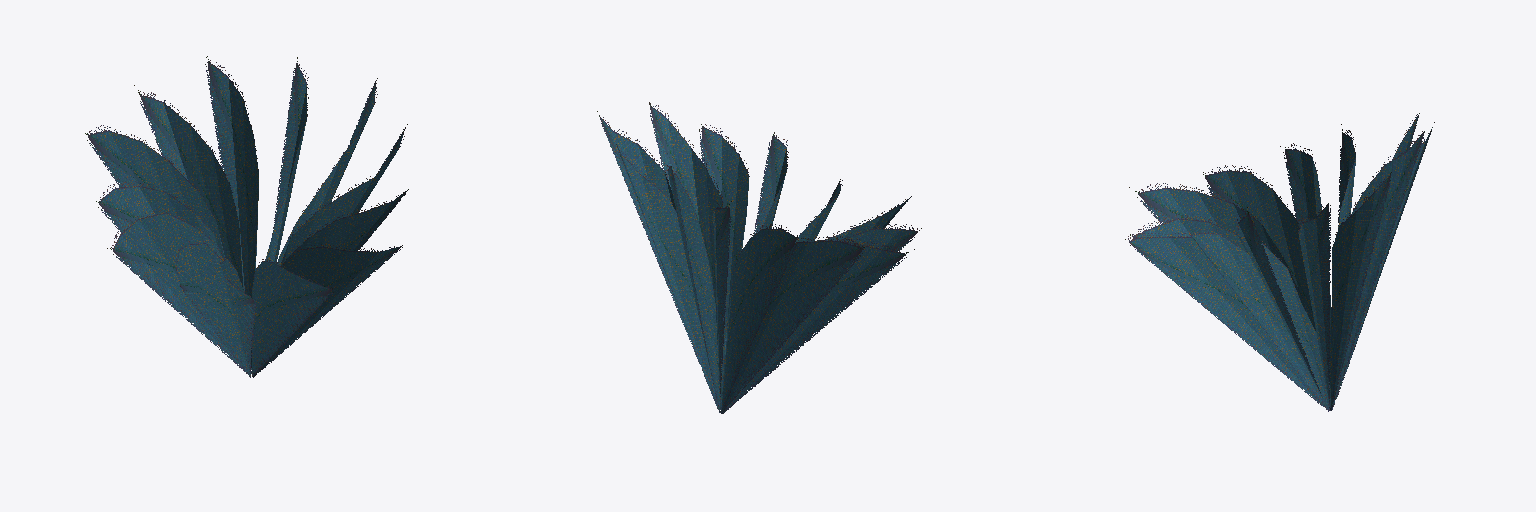
3 views of the same model, side by side, from view 1: azimuth 30°, elevation 25°; view 2: azimuth 150°, elevation 25°; view 3: azimuth 270°, elevation 25° (orthographic).
Bounding box in the file's own units: 3.08 × 2.92 × 2.83.
Materials: 1 (1 with a texture image).